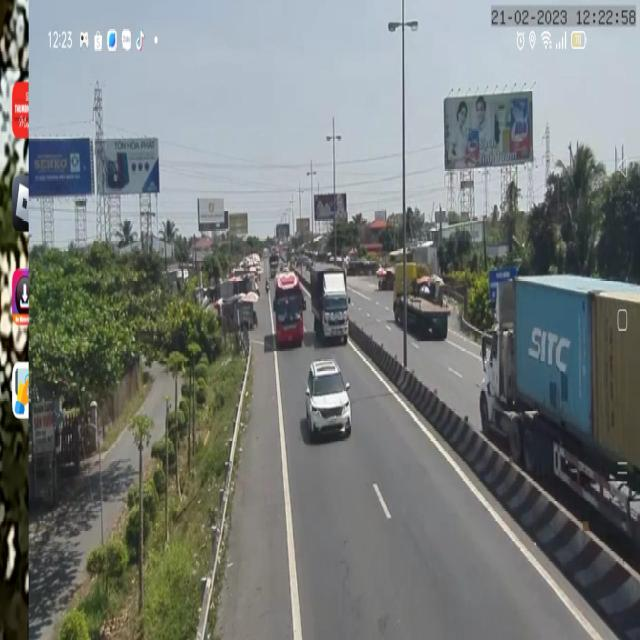bus: (273, 268, 305, 346)
car: (305, 358, 352, 442)
truck: (476, 278, 640, 536), (393, 258, 450, 344), (308, 263, 351, 349)
